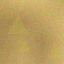structure: (7, 13, 28, 33), (48, 40, 61, 57), (19, 39, 30, 52)
